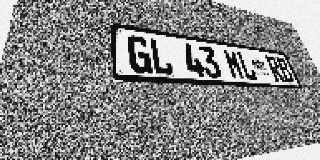3: (198, 45, 222, 78)
4: (181, 43, 206, 77)
B: (275, 57, 295, 83)
G: (127, 35, 153, 74)
L: (148, 38, 174, 76), (236, 51, 258, 81)
M: (223, 49, 246, 80)
R: (265, 55, 286, 82)
